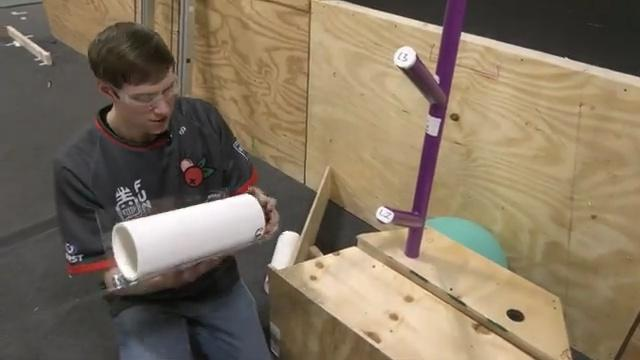CORAL: (109, 191, 266, 285)
